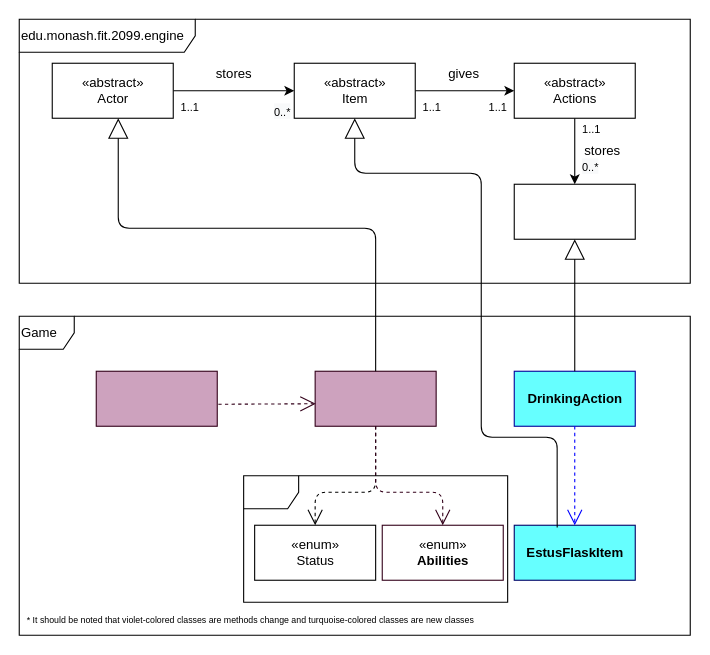
The diagram is 710 pixels wide and 655 high, and some of its shapes have lost their labels. The centre of each missing label's shape, as x and y in pixels:
Action: the point at 574,211
Application: the point at 156,398
enums: the point at 375,538
Player: the point at 375,398
